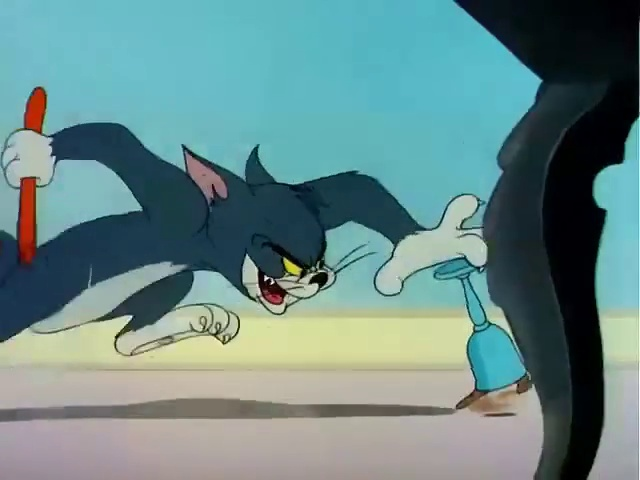tom: (3, 86, 497, 358)
